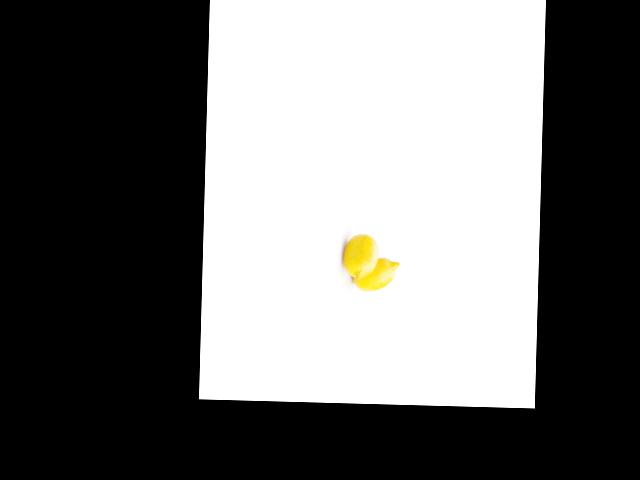lemon: (337, 231, 383, 280)
